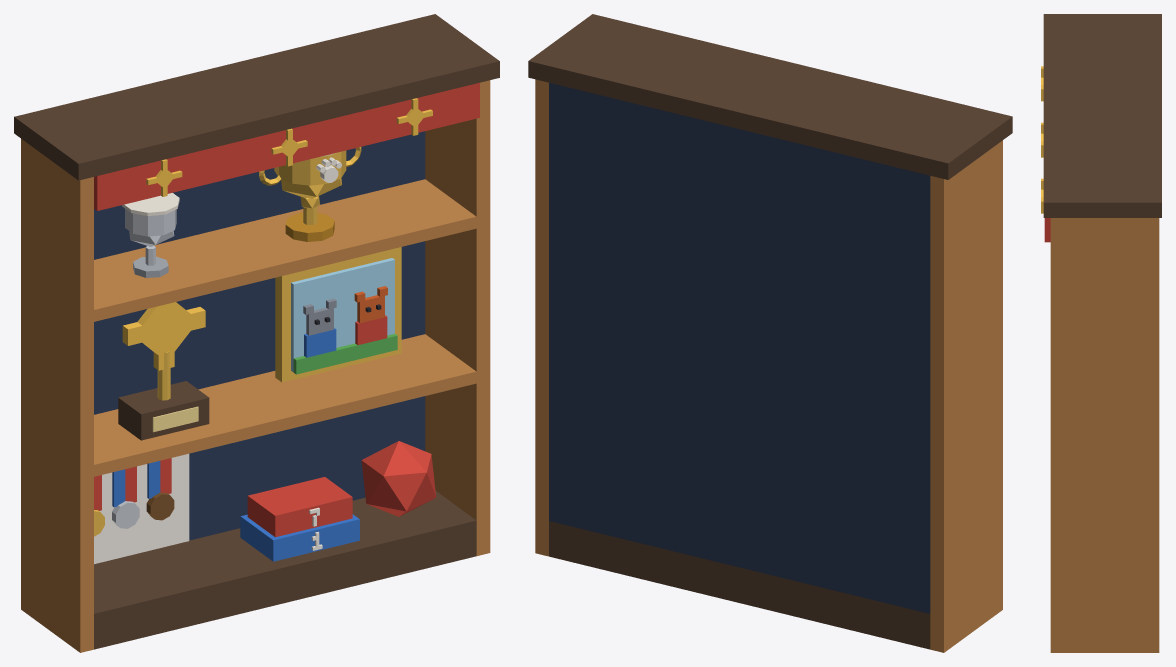
The model's file is CatCafe_Decor_TrophyShelf.glb.
The picture shows the model from 3 angles, left to right: view 1: azimuth 30°, elevation 25°; view 2: azimuth 150°, elevation 25°; view 3: azimuth 270°, elevation 25°; orthographic projection. The views are drawn at different scales.
Parts seen in each view (by area): view 1: CatCafe_Decor_TrophyShelf; view 2: CatCafe_Decor_TrophyShelf; view 3: CatCafe_Decor_TrophyShelf.
Part boxes in pixels (x1,y1,x2,y2): CatCafe_Decor_TrophyShelf: (14, 14, 499, 652); CatCafe_Decor_TrophyShelf: (528, 14, 1012, 652); CatCafe_Decor_TrophyShelf: (1041, 14, 1161, 652).
Size of the model in its own units: 3.7 by 4.14 by 1.
Materials: 1 (1 with a texture image).
